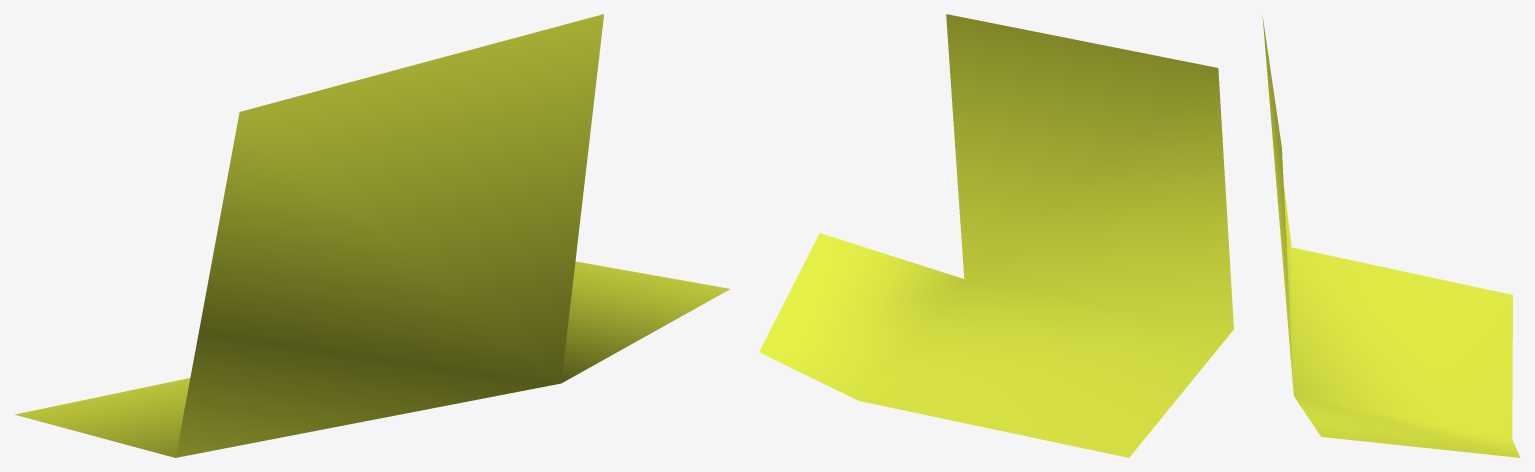
The model's file is b_polySurface755_b_BMW_i8Elite_2017CalliperGloss_Material1_0.glb.
3 renders of one model, left to right at view 1: azimuth 30°, elevation 25°; view 2: azimuth 150°, elevation 25°; view 3: azimuth 270°, elevation 25°, orthographic. The views are drawn at different scales.
Visible parts, largest first — view 1: b:polySurface755_b:BMW_i8Elite_2017CalliperGloss_Material1_0; view 2: b:polySurface755_b:BMW_i8Elite_2017CalliperGloss_Material1_0; view 3: b:polySurface755_b:BMW_i8Elite_2017CalliperGloss_Material1_0.
Part boxes in pixels (x1,y1,x2,y2): b:polySurface755_b:BMW_i8Elite_2017CalliperGloss_Material1_0: [15, 14, 729, 457]; b:polySurface755_b:BMW_i8Elite_2017CalliperGloss_Material1_0: [759, 14, 1233, 457]; b:polySurface755_b:BMW_i8Elite_2017CalliperGloss_Material1_0: [1262, 17, 1520, 457].
Size of the model in its own units: 0.059 by 0.0421 by 0.0321.
